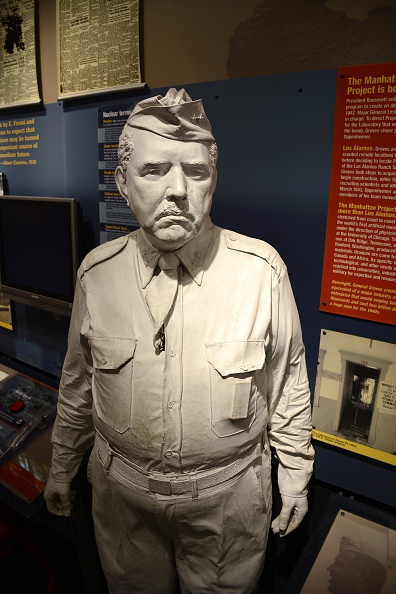em pe: (30, 95, 334, 594)
